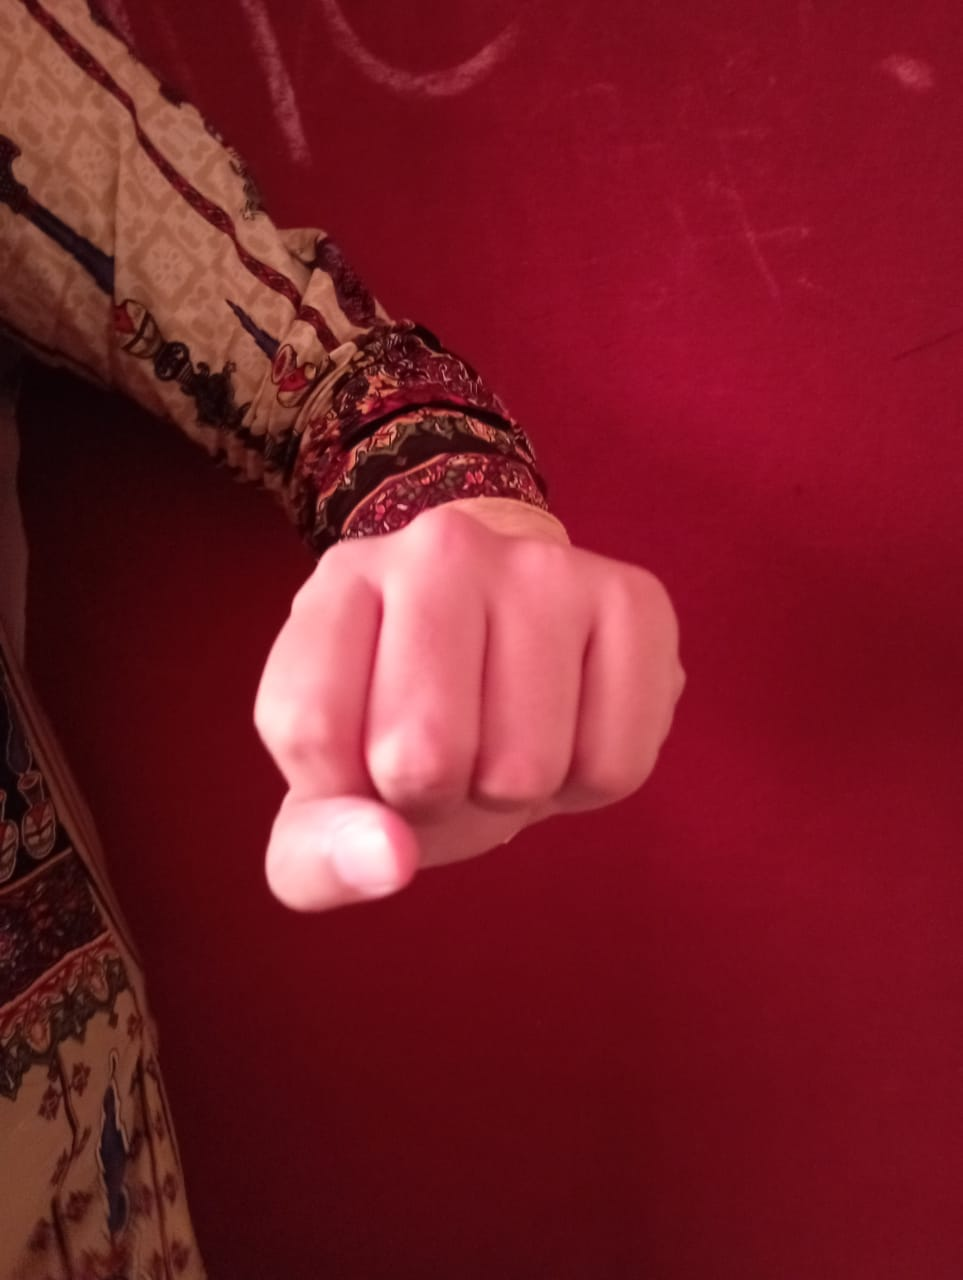BroCode: (232, 494, 687, 955)
